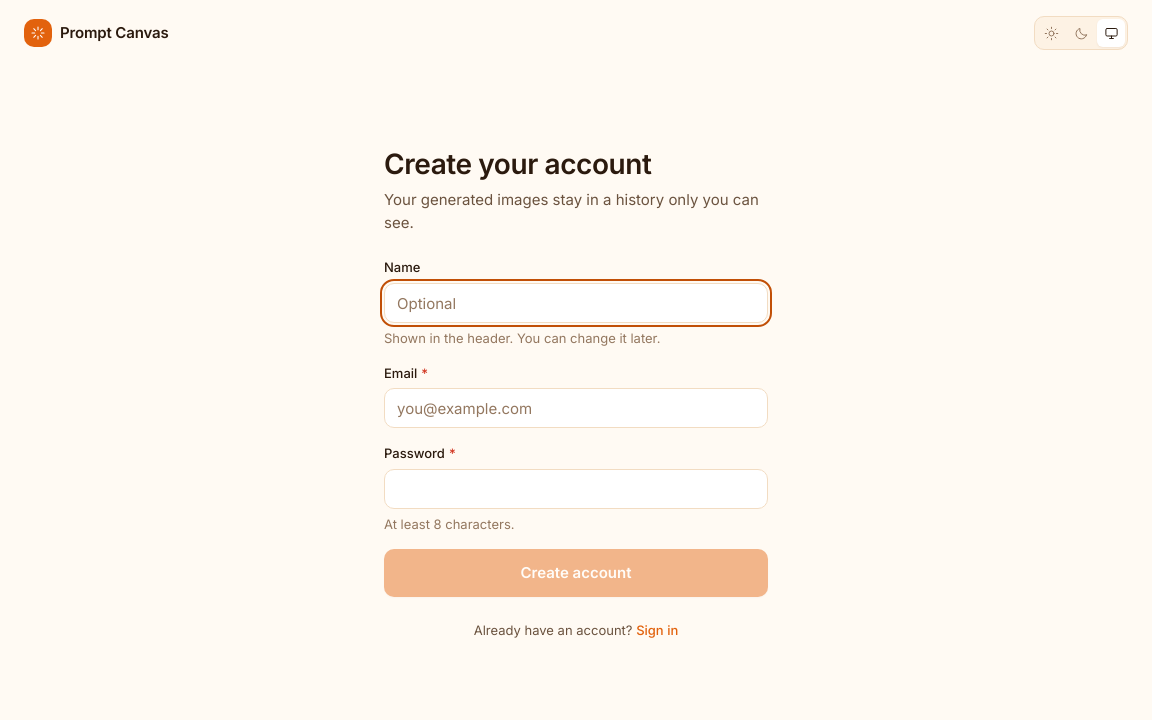
it: register › shows a field error returned by the server
Step 1. Type "taken@example.com" into the field labelled "Email*" → point(576, 408), box [384,388,768,428]
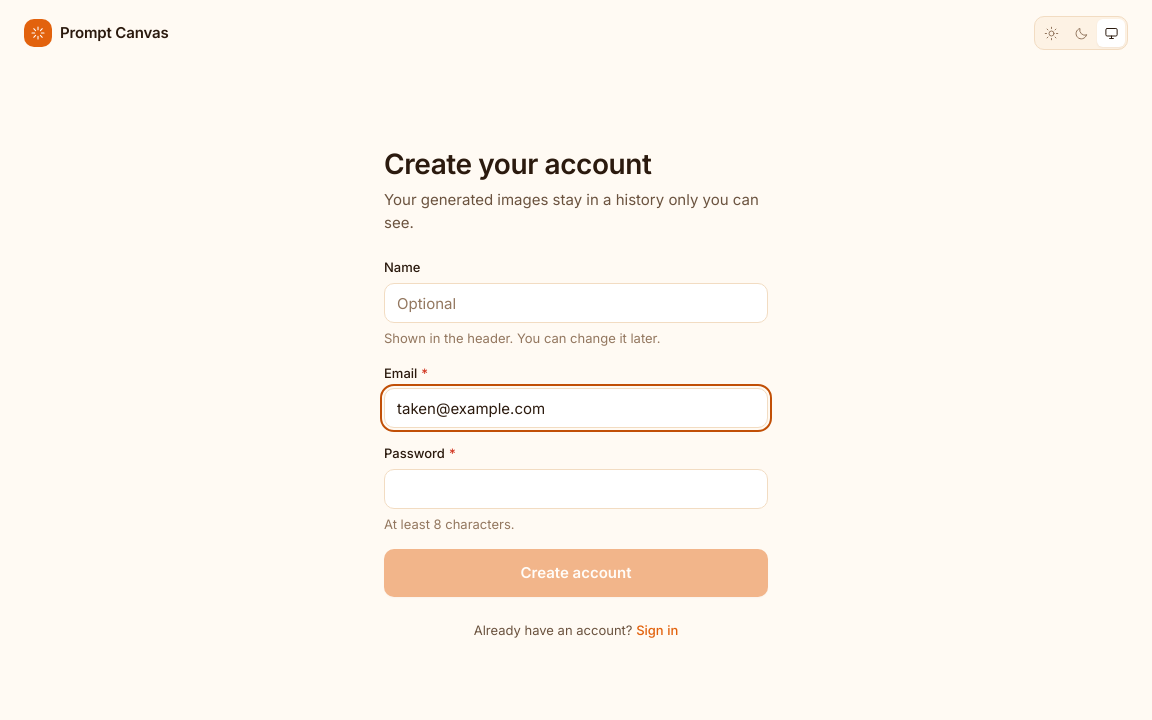
Step 2. Type "correct-horse-battery" into the password field labelled "Password*" → point(576, 489), box [384,469,768,509]
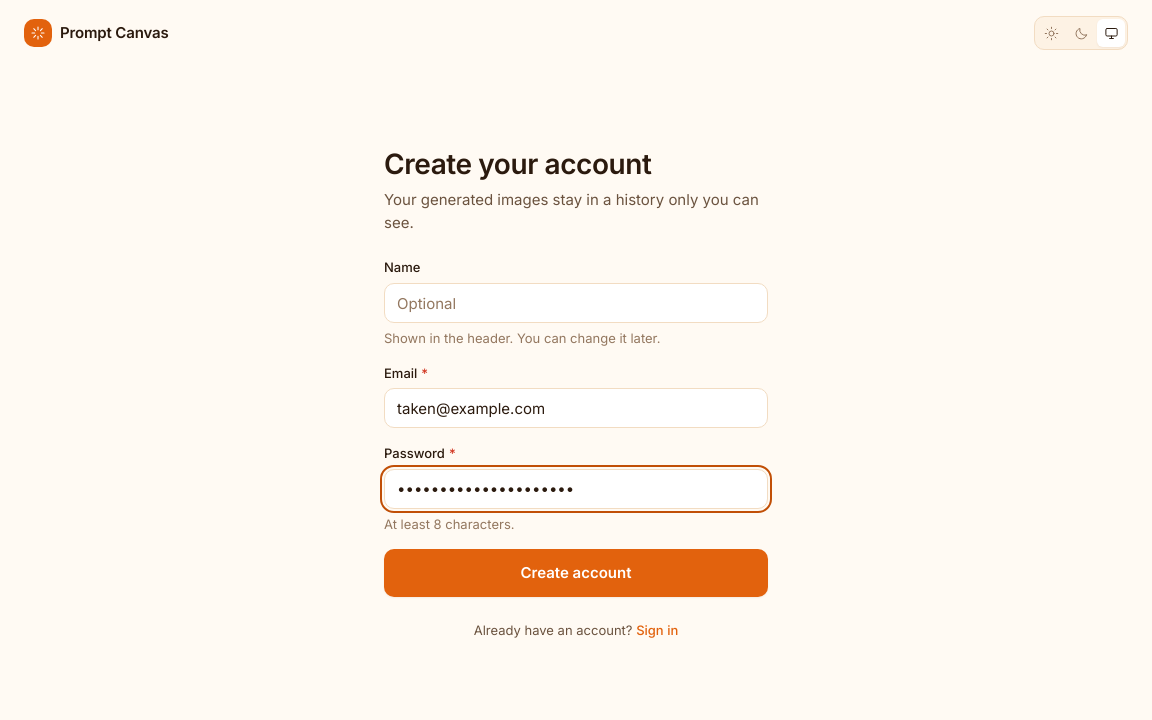
Step 3. Click the button "Create account" → point(576, 573), box [384,549,768,597]
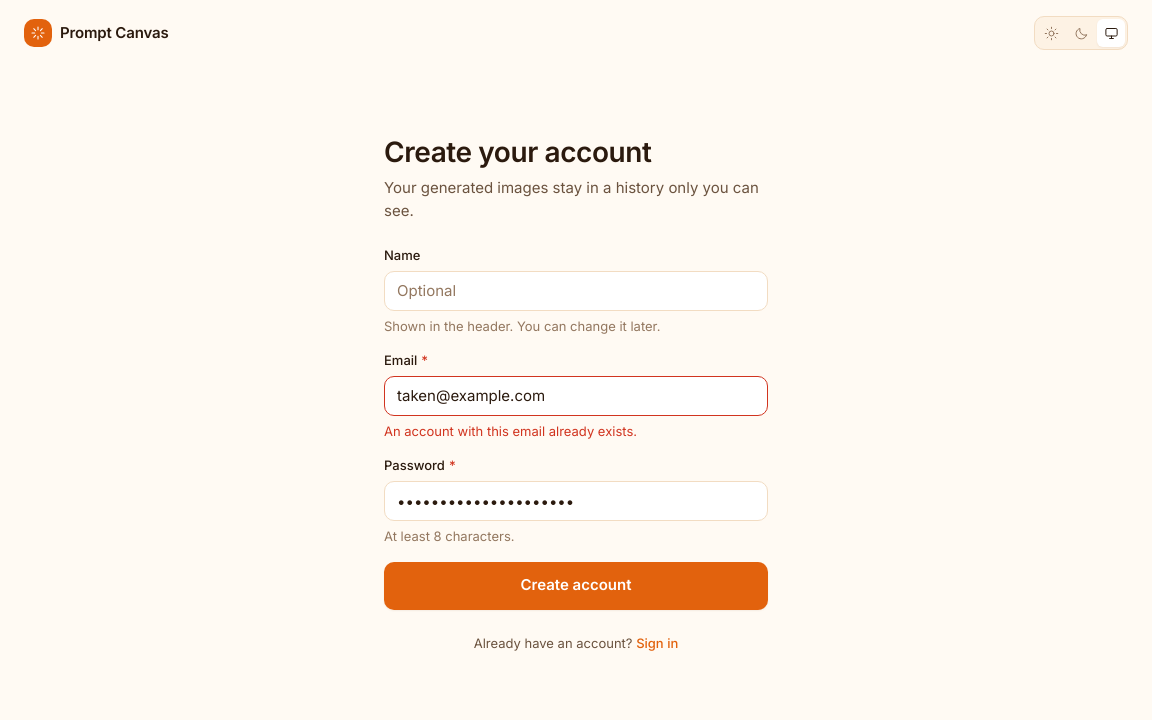
Expected: the message shows "already exists", [384,423,637,439]
